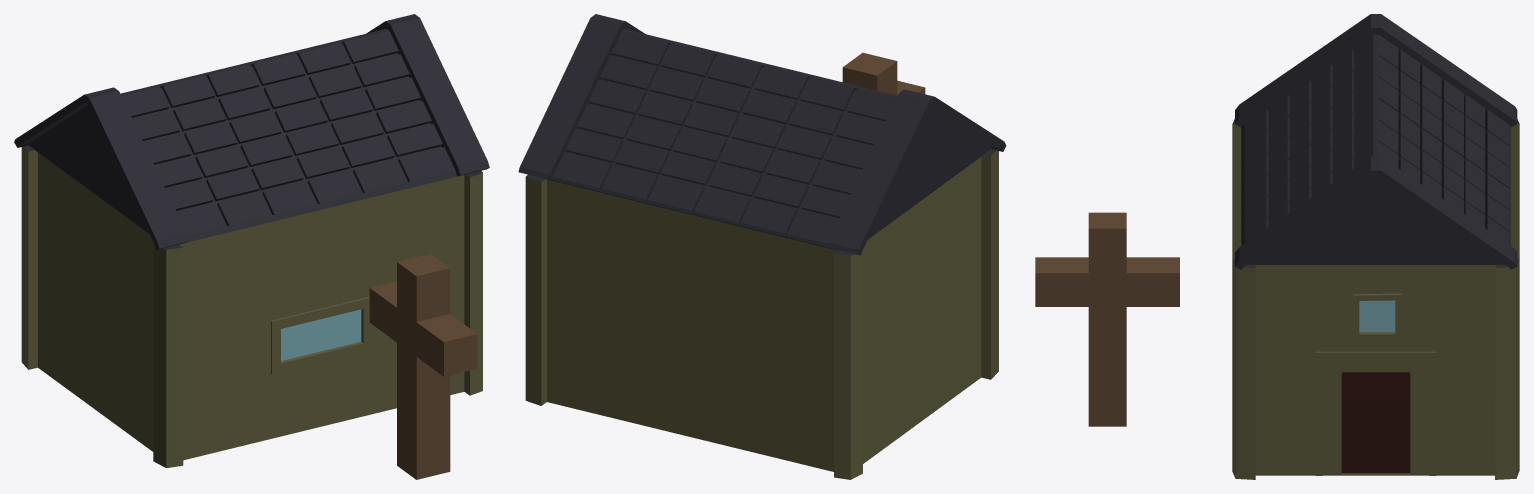
File: Building_GraveyardMain.fbx
3 views of the same model, side by side, from view 1: azimuth 30°, elevation 25°; view 2: azimuth 150°, elevation 25°; view 3: azimuth 270°, elevation 25° (orthographic). The views are drawn at different scales.
Parts seen in each view (by area): view 1: Cube, Plane; view 2: Cube, Plane; view 3: Cube, Plane.
Part boxes in pixels (bbox=[...]): Cube: bbox=[14, 14, 489, 468]; Plane: bbox=[369, 254, 477, 479]; Cube: bbox=[518, 14, 1006, 479]; Plane: bbox=[842, 52, 925, 95]; Cube: bbox=[1232, 14, 1519, 479]; Plane: bbox=[1035, 212, 1179, 426].
Size of the model in its own units: 791 by 733 by 1033.
